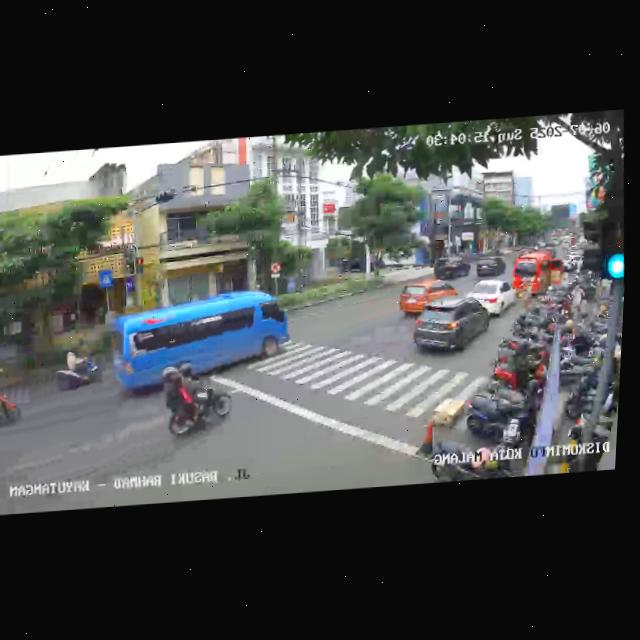bus: (109, 289, 294, 397)
car: (409, 299, 495, 360), (396, 277, 461, 322), (512, 250, 569, 299), (466, 276, 517, 318), (433, 254, 472, 282), (474, 254, 509, 280)
motorcycle: (158, 359, 237, 442), (49, 335, 110, 400), (0, 376, 25, 434)
